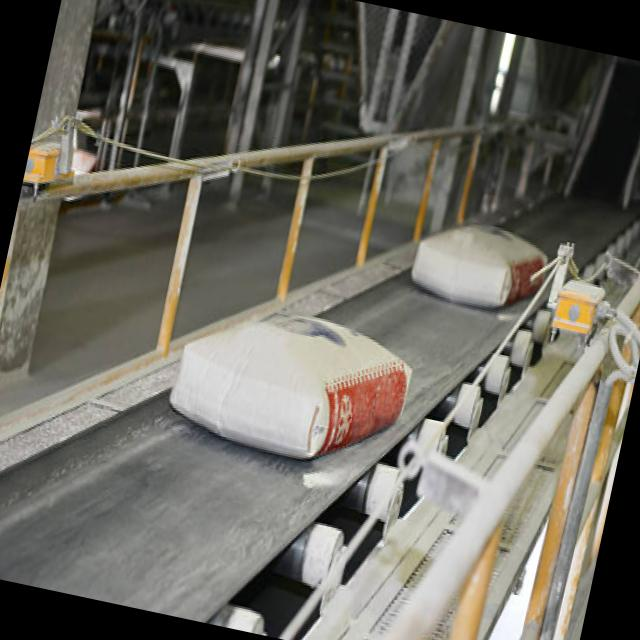KantongSemen: (162, 287, 420, 480), (404, 200, 552, 320)
